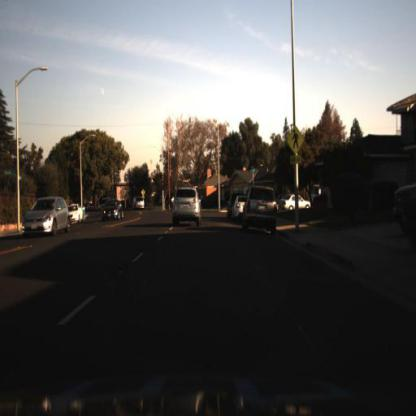car: (22, 197, 70, 241), (243, 184, 281, 237), (172, 187, 203, 227), (98, 190, 126, 226), (276, 192, 313, 213), (101, 201, 127, 221), (234, 191, 244, 229), (68, 206, 88, 224), (70, 204, 87, 225), (134, 196, 145, 212)
